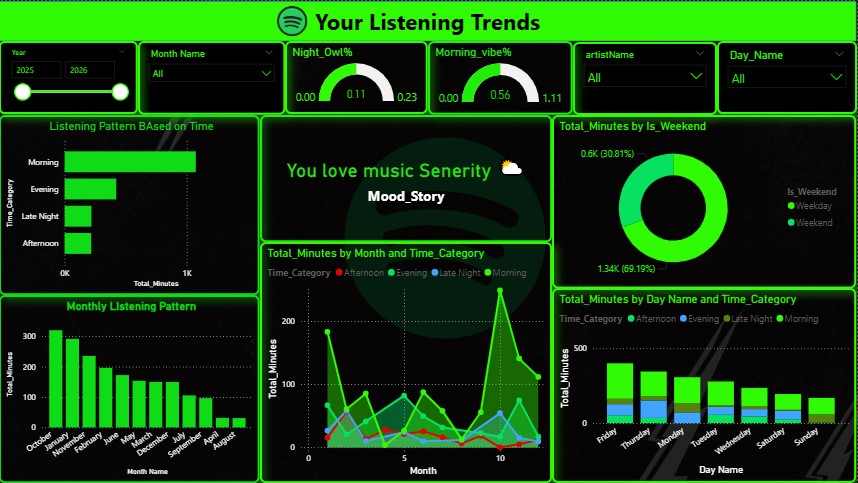

This screenshot's page, from the dashboard's own definition file:
{"tool":"powerbi","page":{"name":"Page 2","canvas":[1280,720],"ordinal":1},"visuals":[{"type":"clusteredColumnChart","title":"Monthly LIstening Pattern","fields":{"Category":["StreamingHistory_music_0.Month Name"],"Y":["SearchQueries.Total_Minutes"]},"box":[0,439.3,389.4,280.7],"z":0},{"type":"clusteredBarChart","title":"Listening Pattern BAsed on Time","fields":{"Y":["SearchQueries.Total_Minutes"],"Category":["StreamingHistory_music_0.Time_Category"]},"box":[0,170.4,389.4,268.9],"z":1000},{"type":"donutChart","fields":{"Y":["SearchQueries.Total_Minutes"],"Category":["StreamingHistory_music_0.Is_Weekend"]},"box":[825.8,170.4,454,258.6],"z":2000},{"type":"shape","box":[0,0,1279.8,60.2],"z":3000},{"type":"slicer","fields":{"Values":["StreamingHistory_music_0.Month Name"]},"box":[207.2,60.2,220.4,110.2],"z":4000},{"type":"slicer","fields":{"Values":["StreamingHistory_music_0.artistName"]},"box":[856.7,61.7,214.5,108.7],"z":5000},{"type":"slicer","fields":{"Values":["StreamingHistory_music_0.Year"]},"box":[0,60.2,207.2,108.7],"z":6000},{"type":"slicer","fields":{"Values":["StreamingHistory_music_0.Day Name"]},"box":[1071.2,60.2,208.7,108.7],"z":7000},{"type":"areaChart","fields":{"Y":["SearchQueries.Total_Minutes"],"Category":["StreamingHistory_music_0.Month"],"Series":["StreamingHistory_music_0.Time_Category"]},"box":[389.4,360,436.4,360],"z":8000},{"type":"columnChart","fields":{"Y":["SearchQueries.Total_Minutes"],"Category":["StreamingHistory_music_0.Day Name"],"Series":["StreamingHistory_music_0.Time_Category"]},"box":[826,429,454,291],"z":9000},{"type":"gauge","fields":{"Y":["SearchQueries.Night_Owl%"]},"box":[427.6,60.2,213.1,108.7],"z":10000},{"type":"image","box":[389.4,0,95.5,60.2],"z":11000},{"type":"gauge","title":"Morning_vibe%","fields":{"Y":["SearchQueries.Morning_score%"]},"box":[640.7,60.2,216,110.2],"z":12000},{"type":"card","fields":{"Values":["SearchQueries.Mood_Story"]},"box":[389.4,170.4,436.4,189.6],"z":13000}]}

Visuals, with their boxes in screenshot pixels (x1, y1, x2, y2), scaled from the page's 1280x720 canvas onto the 858x483 screenshot:
"Monthly LIstening Pattern" clusteredColumnChart: pyautogui.locateOnScreen(0, 295, 261, 482)
"Listening Pattern BAsed on Time" clusteredBarChart: pyautogui.locateOnScreen(0, 114, 261, 295)
donutChart - SearchQueries.Total_Minutes x StreamingHistory_music_0.Is_Weekend: pyautogui.locateOnScreen(554, 114, 857, 288)
shape: pyautogui.locateOnScreen(0, 0, 857, 40)
slicer - StreamingHistory_music_0.Month Name: pyautogui.locateOnScreen(139, 40, 287, 114)
slicer - StreamingHistory_music_0.artistName: pyautogui.locateOnScreen(574, 41, 718, 114)
slicer - StreamingHistory_music_0.Year: pyautogui.locateOnScreen(0, 40, 139, 113)
slicer - StreamingHistory_music_0.Day Name: pyautogui.locateOnScreen(718, 40, 857, 113)
areaChart - SearchQueries.Total_Minutes x StreamingHistory_music_0.Month: pyautogui.locateOnScreen(261, 241, 554, 482)
columnChart - SearchQueries.Total_Minutes x StreamingHistory_music_0.Day Name: pyautogui.locateOnScreen(554, 288, 857, 482)
gauge - SearchQueries.Night_Owl%: pyautogui.locateOnScreen(287, 40, 429, 113)
image: pyautogui.locateOnScreen(261, 0, 325, 40)
"Morning_vibe%" gauge: pyautogui.locateOnScreen(429, 40, 574, 114)
card - SearchQueries.Mood_Story: pyautogui.locateOnScreen(261, 114, 554, 241)
